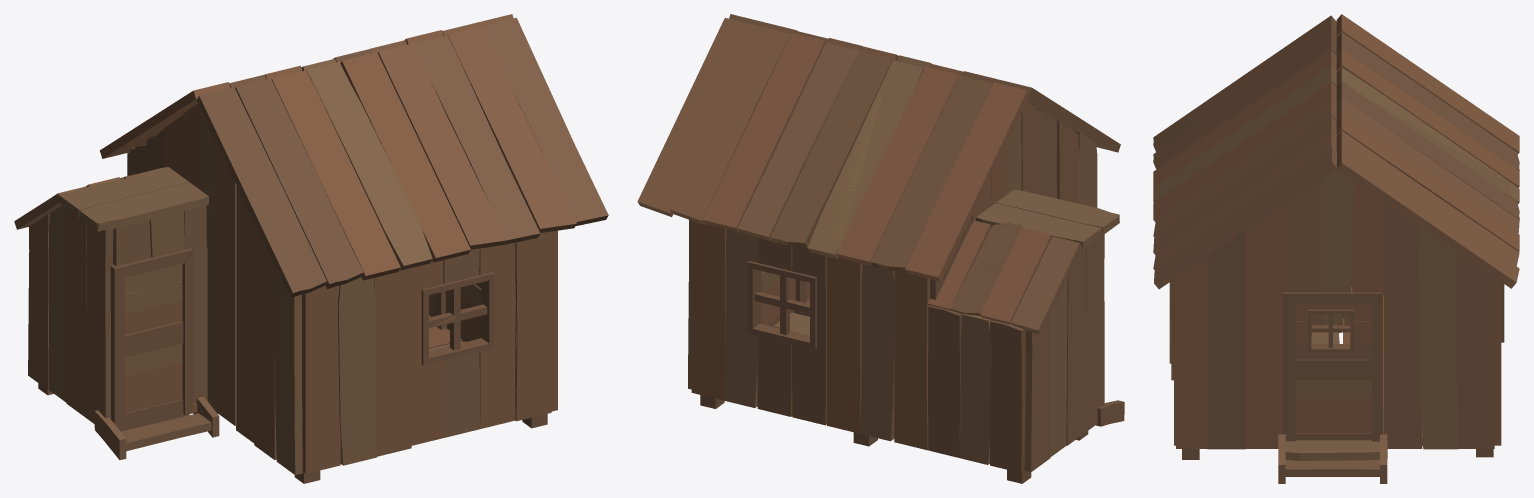
The model's file is House3.gltf.
3 views of the same model, side by side, from view 1: azimuth 30°, elevation 25°; view 2: azimuth 150°, elevation 25°; view 3: azimuth 270°, elevation 25° (orthographic). The views are drawn at different scales.
Visible parts, largest first — view 1: House3_Detail_Low, House3_Destruction.007, House3_Destruction.006, House3_Destruction.002, House3_Destruction.001; view 2: House3_Detail_Low, House3_Destruction.003, House3_Destruction.001, House3_Destruction.005, House3_Destruction.006; view 3: House3_Detail_Low, House3_Destruction.004, House3_Destruction.007, House3_Destruction.005, House3_Destruction.003.
Boxes of the visible parts, x1,y1,x2,y2 form: House3_Detail_Low: [14, 14, 608, 483]; House3_Destruction.007: [201, 61, 398, 297]; House3_Destruction.006: [201, 111, 305, 452]; House3_Destruction.002: [411, 265, 516, 380]; House3_Destruction.001: [17, 175, 178, 361]; House3_Detail_Low: [637, 14, 1124, 483]; House3_Destruction.003: [703, 220, 894, 420]; House3_Destruction.001: [975, 189, 1119, 445]; House3_Destruction.005: [814, 63, 1028, 245]; House3_Destruction.006: [1007, 119, 1096, 207]; House3_Detail_Low: [1153, 14, 1519, 483]; House3_Destruction.004: [1181, 157, 1515, 421]; House3_Destruction.007: [1153, 32, 1336, 188]; House3_Destruction.005: [1337, 16, 1510, 214]; House3_Destruction.003: [1493, 169, 1519, 441].
Size of the model in its own units: 6.01 by 4.63 by 4.79.
